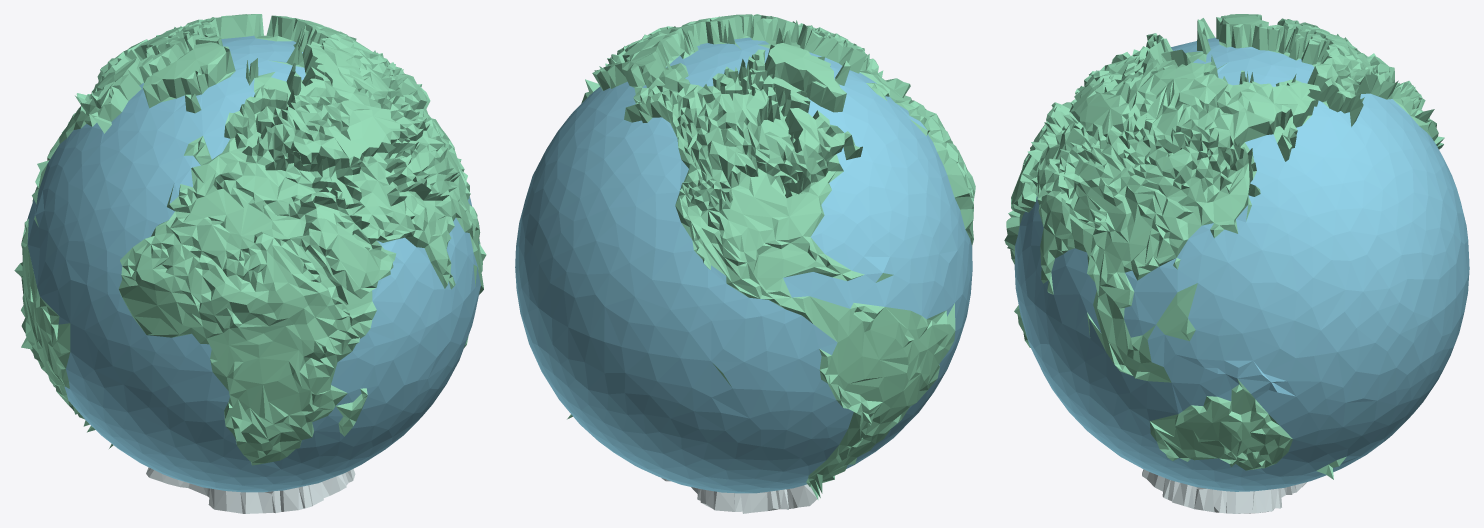
The model's file is earth.glb.
3 renders of one model, left to right at view 1: azimuth 30°, elevation 25°; view 2: azimuth 150°, elevation 25°; view 3: azimuth 270°, elevation 25°, orthographic.
Visible parts, largest first — view 1: Earth; view 2: Earth; view 3: Earth.
Part boxes in pixels (x1,y1,x2,y2): Earth: (14,14,486,513); Earth: (515,14,975,513); Earth: (1004,14,1469,513).
Bounding box in the file's own units: 0.2898 × 0.3118 × 0.29.
